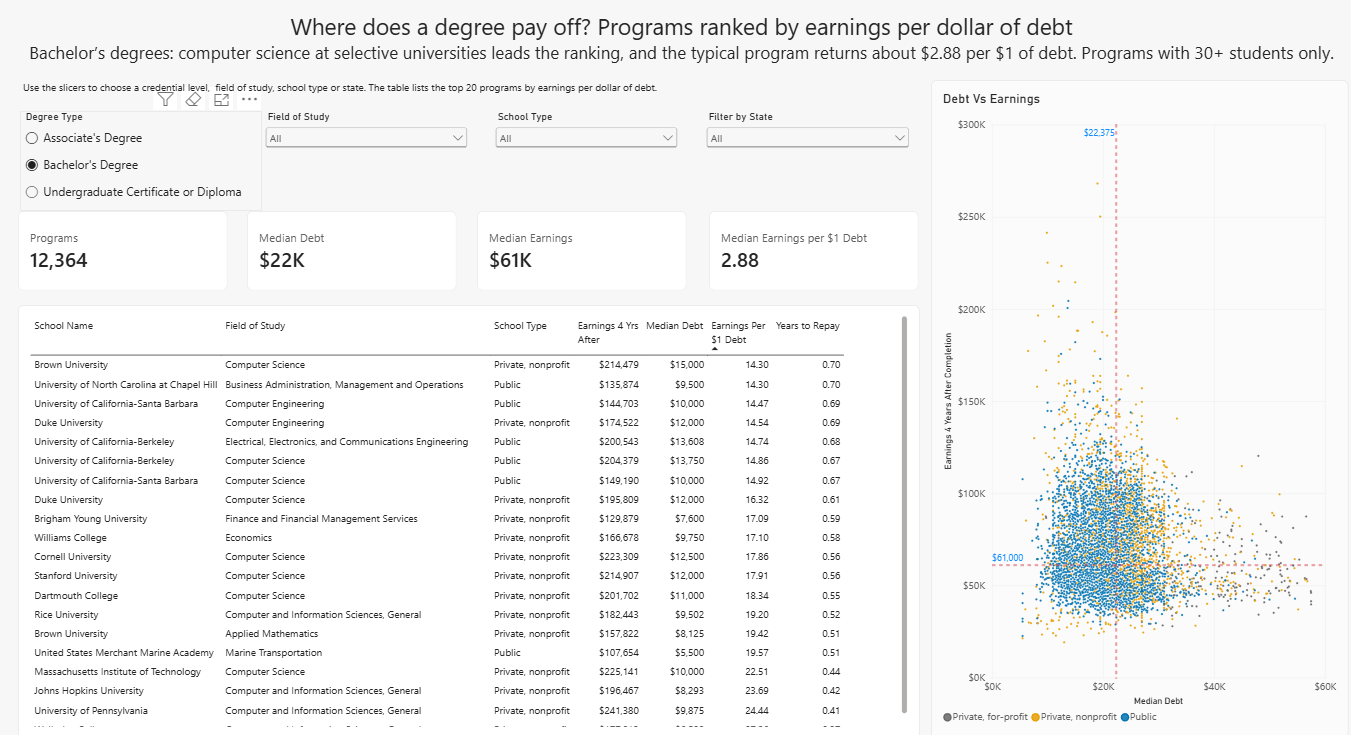

Layout of this report page (visuals, bound fields, positions):
{"tool":"powerbi","page":{"name":"Degree Value","canvas":[1920,1080],"ordinal":0},"visuals":[{"type":"cardVisual","fields":{"Data":["vw_high_risk.Programs"]},"box":[29.4,300.6,295.3,112.2],"z":0},{"type":"cardVisual","fields":{"Data":["vw_high_risk.Median Debt"]},"box":[352.7,300.6,295.3,112.2],"z":1000},{"type":"cardVisual","fields":{"Data":["vw_high_risk.Median Earnings"]},"box":[676.1,300.6,295.3,112.2],"z":2000},{"type":"cardVisual","fields":{"Data":["vw_high_risk.Median Earnings per $1 Debt"]},"box":[1003.4,300.6,295.3,112.2],"z":3000},{"type":"slicer","fields":{"Values":["vw_high_risk.CREDDESC"]},"box":[33,159,340.5,141],"z":4000},{"type":"slicer","fields":{"Values":["vw_high_risk.CIPDESC"]},"box":[373.7,159,293.9,141.6],"z":5000},{"type":"slicer","fields":{"Values":["vw_high_risk.state"]},"box":[995,159,295.3,148.3],"z":6000},{"type":"slicer","fields":{"Values":["vw_high_risk.control"]},"box":[697,159,265.9,153.7],"z":7000},{"type":"tableEx","fields":{"Values":["vw_high_risk.INSTNM","vw_high_risk.CIPDESC","vw_high_risk.control","vw_high_risk.earnings_4yr","vw_high_risk.median_debt","vw_high_risk.earnings_to_debt","vw_high_risk.years_to_repay"]},"box":[29.8,431.9,1270.2,610.6],"z":8000},{"type":"scatterChart","title":"Debt Vs Earnings","fields":{"Category":["vw_high_risk.Program"],"Series":["vw_high_risk.control"],"X":["Avg(vw_high_risk.median_debt)"],"Y":["Avg(vw_high_risk.earnings_4yr)"]},"box":[1316.1,114.9,587.9,928.6],"z":9000},{"type":"textbox","box":[41.4,17.4,1846.5,78.8],"z":10000},{"type":"textbox","box":[36.6,115.5,1253.5,49.3],"z":11000},{"type":"textbox","box":[29.6,1057.7,521.1,22.5],"z":13000}]}

Visuals, with their boxes on the page's 1920x1080 design canvas (x1, y1, x2, y2). These are canvas units, not pixel positions in the 1351x735 screenshot, which may show the page scaled, cropped or inside an application window:
cardVisual - vw_high_risk.Programs: 29:301:325:413
cardVisual - vw_high_risk.Median Debt: 353:301:648:413
cardVisual - vw_high_risk.Median Earnings: 676:301:971:413
cardVisual - vw_high_risk.Median Earnings per $1 Debt: 1003:301:1299:413
slicer - vw_high_risk.CREDDESC: 33:159:374:300
slicer - vw_high_risk.CIPDESC: 374:159:668:301
slicer - vw_high_risk.state: 995:159:1290:307
slicer - vw_high_risk.control: 697:159:963:313
tableEx - vw_high_risk.INSTNM x vw_high_risk.CIPDESC: 30:432:1300:1042
"Debt Vs Earnings" scatterChart: 1316:115:1904:1044
textbox: 41:17:1888:96
textbox: 37:116:1290:165
textbox: 30:1058:551:1080
